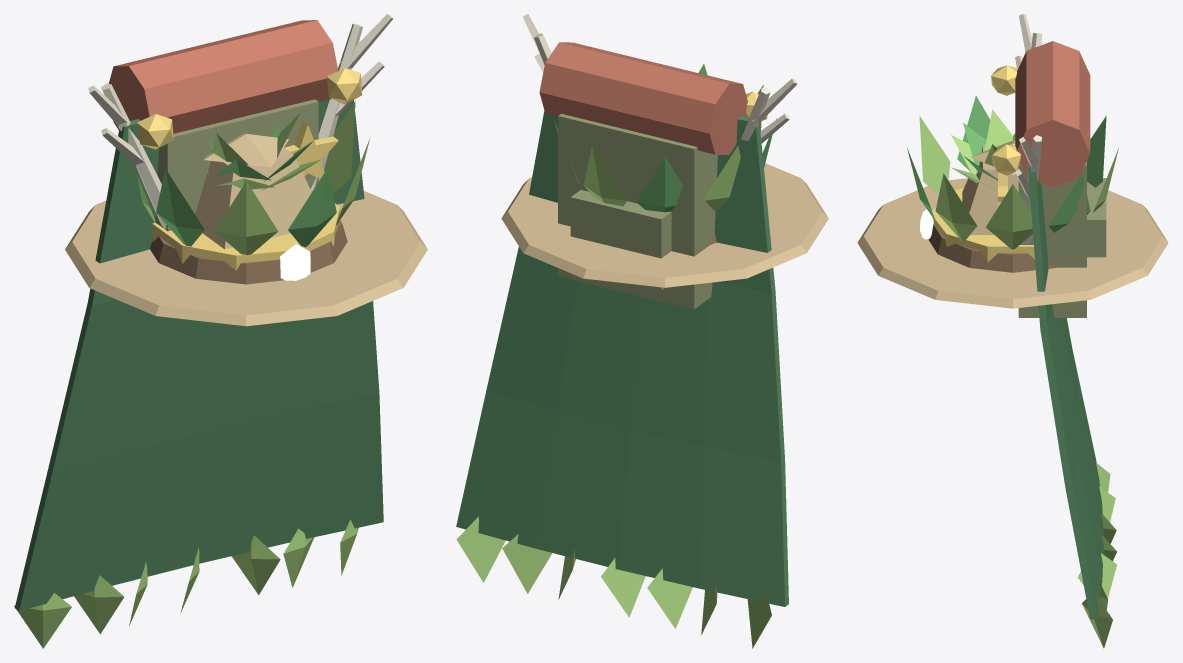
Rendered from Outfits.fbx.
The picture shows the model from 3 angles, left to right: view 1: azimuth 30°, elevation 25°; view 2: azimuth 150°, elevation 25°; view 3: azimuth 270°, elevation 25°; orthographic projection. The views are drawn at different scales.
Visible parts, largest first — view 1: LordCape_Cloth, RangerHat_Felt, RangerPack_Roll, LordCape_Hem, RangerPack_Bag, LordCrown_LeavesB, LordCrown_Antlers, LordCrown_Leaves, RangerHat_Band, LordCrown_Band, LordCape_Clasp, RangerBadge_Star (+2 smaller); view 2: LordCape_Cloth, RangerPack_Bag, RangerPack_Roll, RangerHat_Felt, LordCape_Hem, LordCrown_LeavesB, LordCrown_Antlers, LordCrown_Leaves; view 3: RangerHat_Felt, LordCape_Cloth, RangerPack_Roll, RangerPack_Bag, LordCrown_LeavesB, LordCrown_Leaves, LordCape_Hem, RangerHat_Band, LordCrown_Band, LordCrown_Antlers, LordCape_Clasp, LordShoulderR_LeavesB.
Part boxes in pixels (x1,y1,x2,y2): LordCape_Cloth: (15,99,383,610); RangerHat_Felt: (65,133,427,326); RangerPack_Roll: (108,20,338,133); LordCape_Hem: (14,519,358,648); RangerPack_Bag: (155,99,318,231); LordCrown_LeavesB: (137,101,369,255); LordCrown_Antlers: (88,14,393,229); LordCrown_Leaves: (156,168,336,247); RangerHat_Band: (150,220,347,284); LordCrown_Band: (152,203,340,270); LordCape_Clasp: (137,68,362,149); RangerBadge_Star: (284,120,338,178); LordCape_Cloth: (456,111,788,606); RangerPack_Bag: (558,113,717,309); RangerPack_Roll: (539,42,747,154); RangerHat_Felt: (501,163,828,287); LordCape_Hem: (456,516,771,648); LordCrown_LeavesB: (583,85,763,211); LordCrown_Antlers: (522,14,797,143); LordCrown_Leaves: (553,64,776,212); RangerHat_Felt: (857,140,1168,308); LordCape_Cloth: (1028,163,1103,619); RangerPack_Roll: (1015,41,1090,187); RangerPack_Bag: (1018,161,1106,317); LordCrown_LeavesB: (919,115,1118,249); LordCrown_Leaves: (907,96,1106,232); LordCape_Hem: (1077,462,1116,648); RangerHat_Band: (928,224,1056,272); LordCrown_Band: (932,188,1034,262); LordCrown_Antlers: (1015,14,1042,244); LordCape_Clasp: (991,65,1021,175); LordShoulderR_LeavesB: (951,109,1012,174).
Size of the model in its own units: 2.9 by 4.54 by 2.5.
